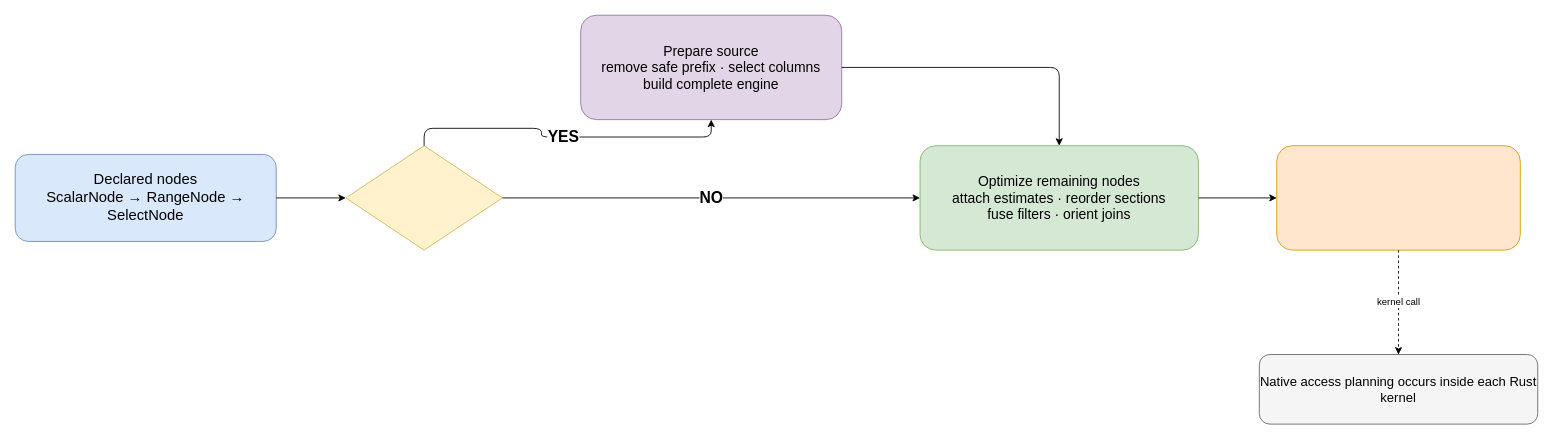
The diagram is 1553 pixels wide and 439 high, and some of its shapes have lost their labels. The shapes that lost their labels are listed below. From the top down, each one's box as (x1, y1, x2, y2) in pixels, then its label:
(345, 145, 502, 250): Deferred source?
(1276, 145, 1520, 250): Executor inputs execution-ordered nodes + EXPR or IO filter path
